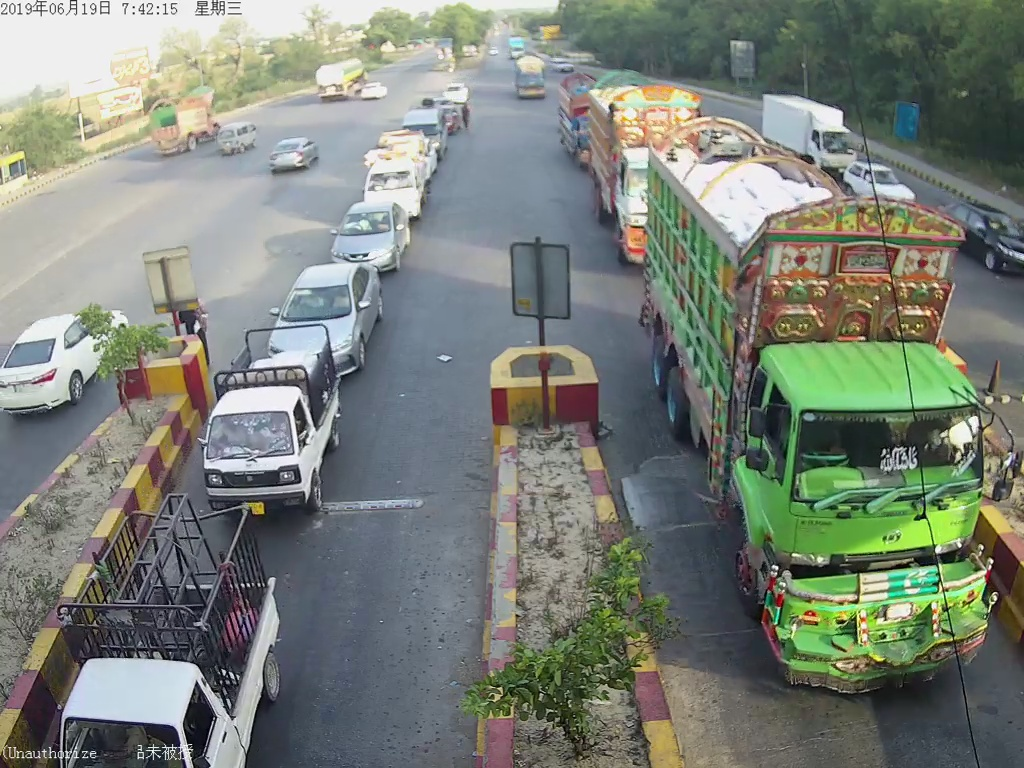Cat-1: (202, 332, 355, 512), (277, 268, 390, 337), (329, 202, 411, 271)
Cat-4: (631, 120, 1007, 710)
